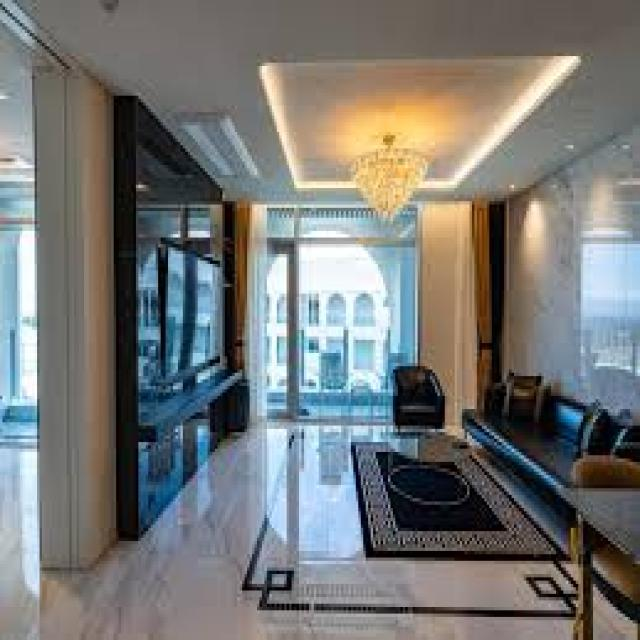Chair: (388, 363, 448, 432)
Sofa: (463, 379, 638, 507)
tv: (161, 232, 225, 381)
window: (245, 212, 407, 408)
